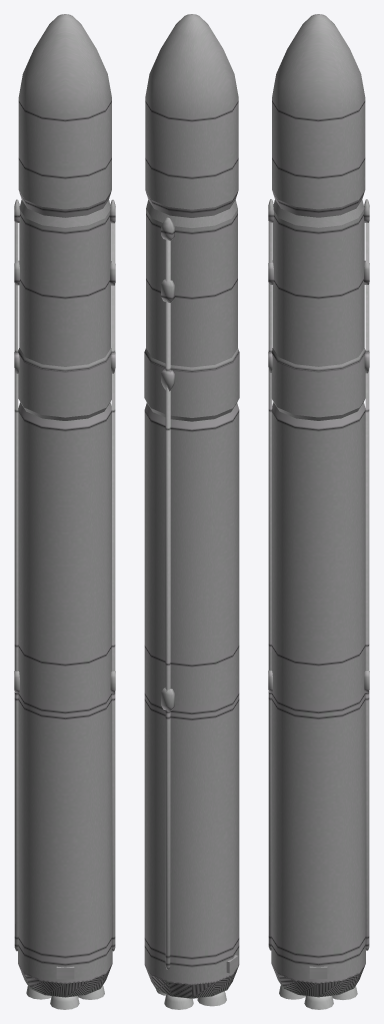
The model's file is icbm.obj.
The picture shows the model from 3 angles, left to right: view 1: azimuth 90°, elevation 25°; view 2: azimuth 150°, elevation 25°; view 3: azimuth 270°, elevation 25°; orthographic projection.
Parts seen in each view (by area): view 1: Cylinder; view 2: Cylinder; view 3: Cylinder.
Boxes of the visible parts, x1,y1,x2,y2 form: Cylinder: (14, 14, 115, 1009); Cylinder: (144, 14, 239, 1009); Cylinder: (268, 14, 369, 1009).
Bounding box in the file's own units: 0.6218 × 6.96 × 0.6543.
1 material, 1 textured.
